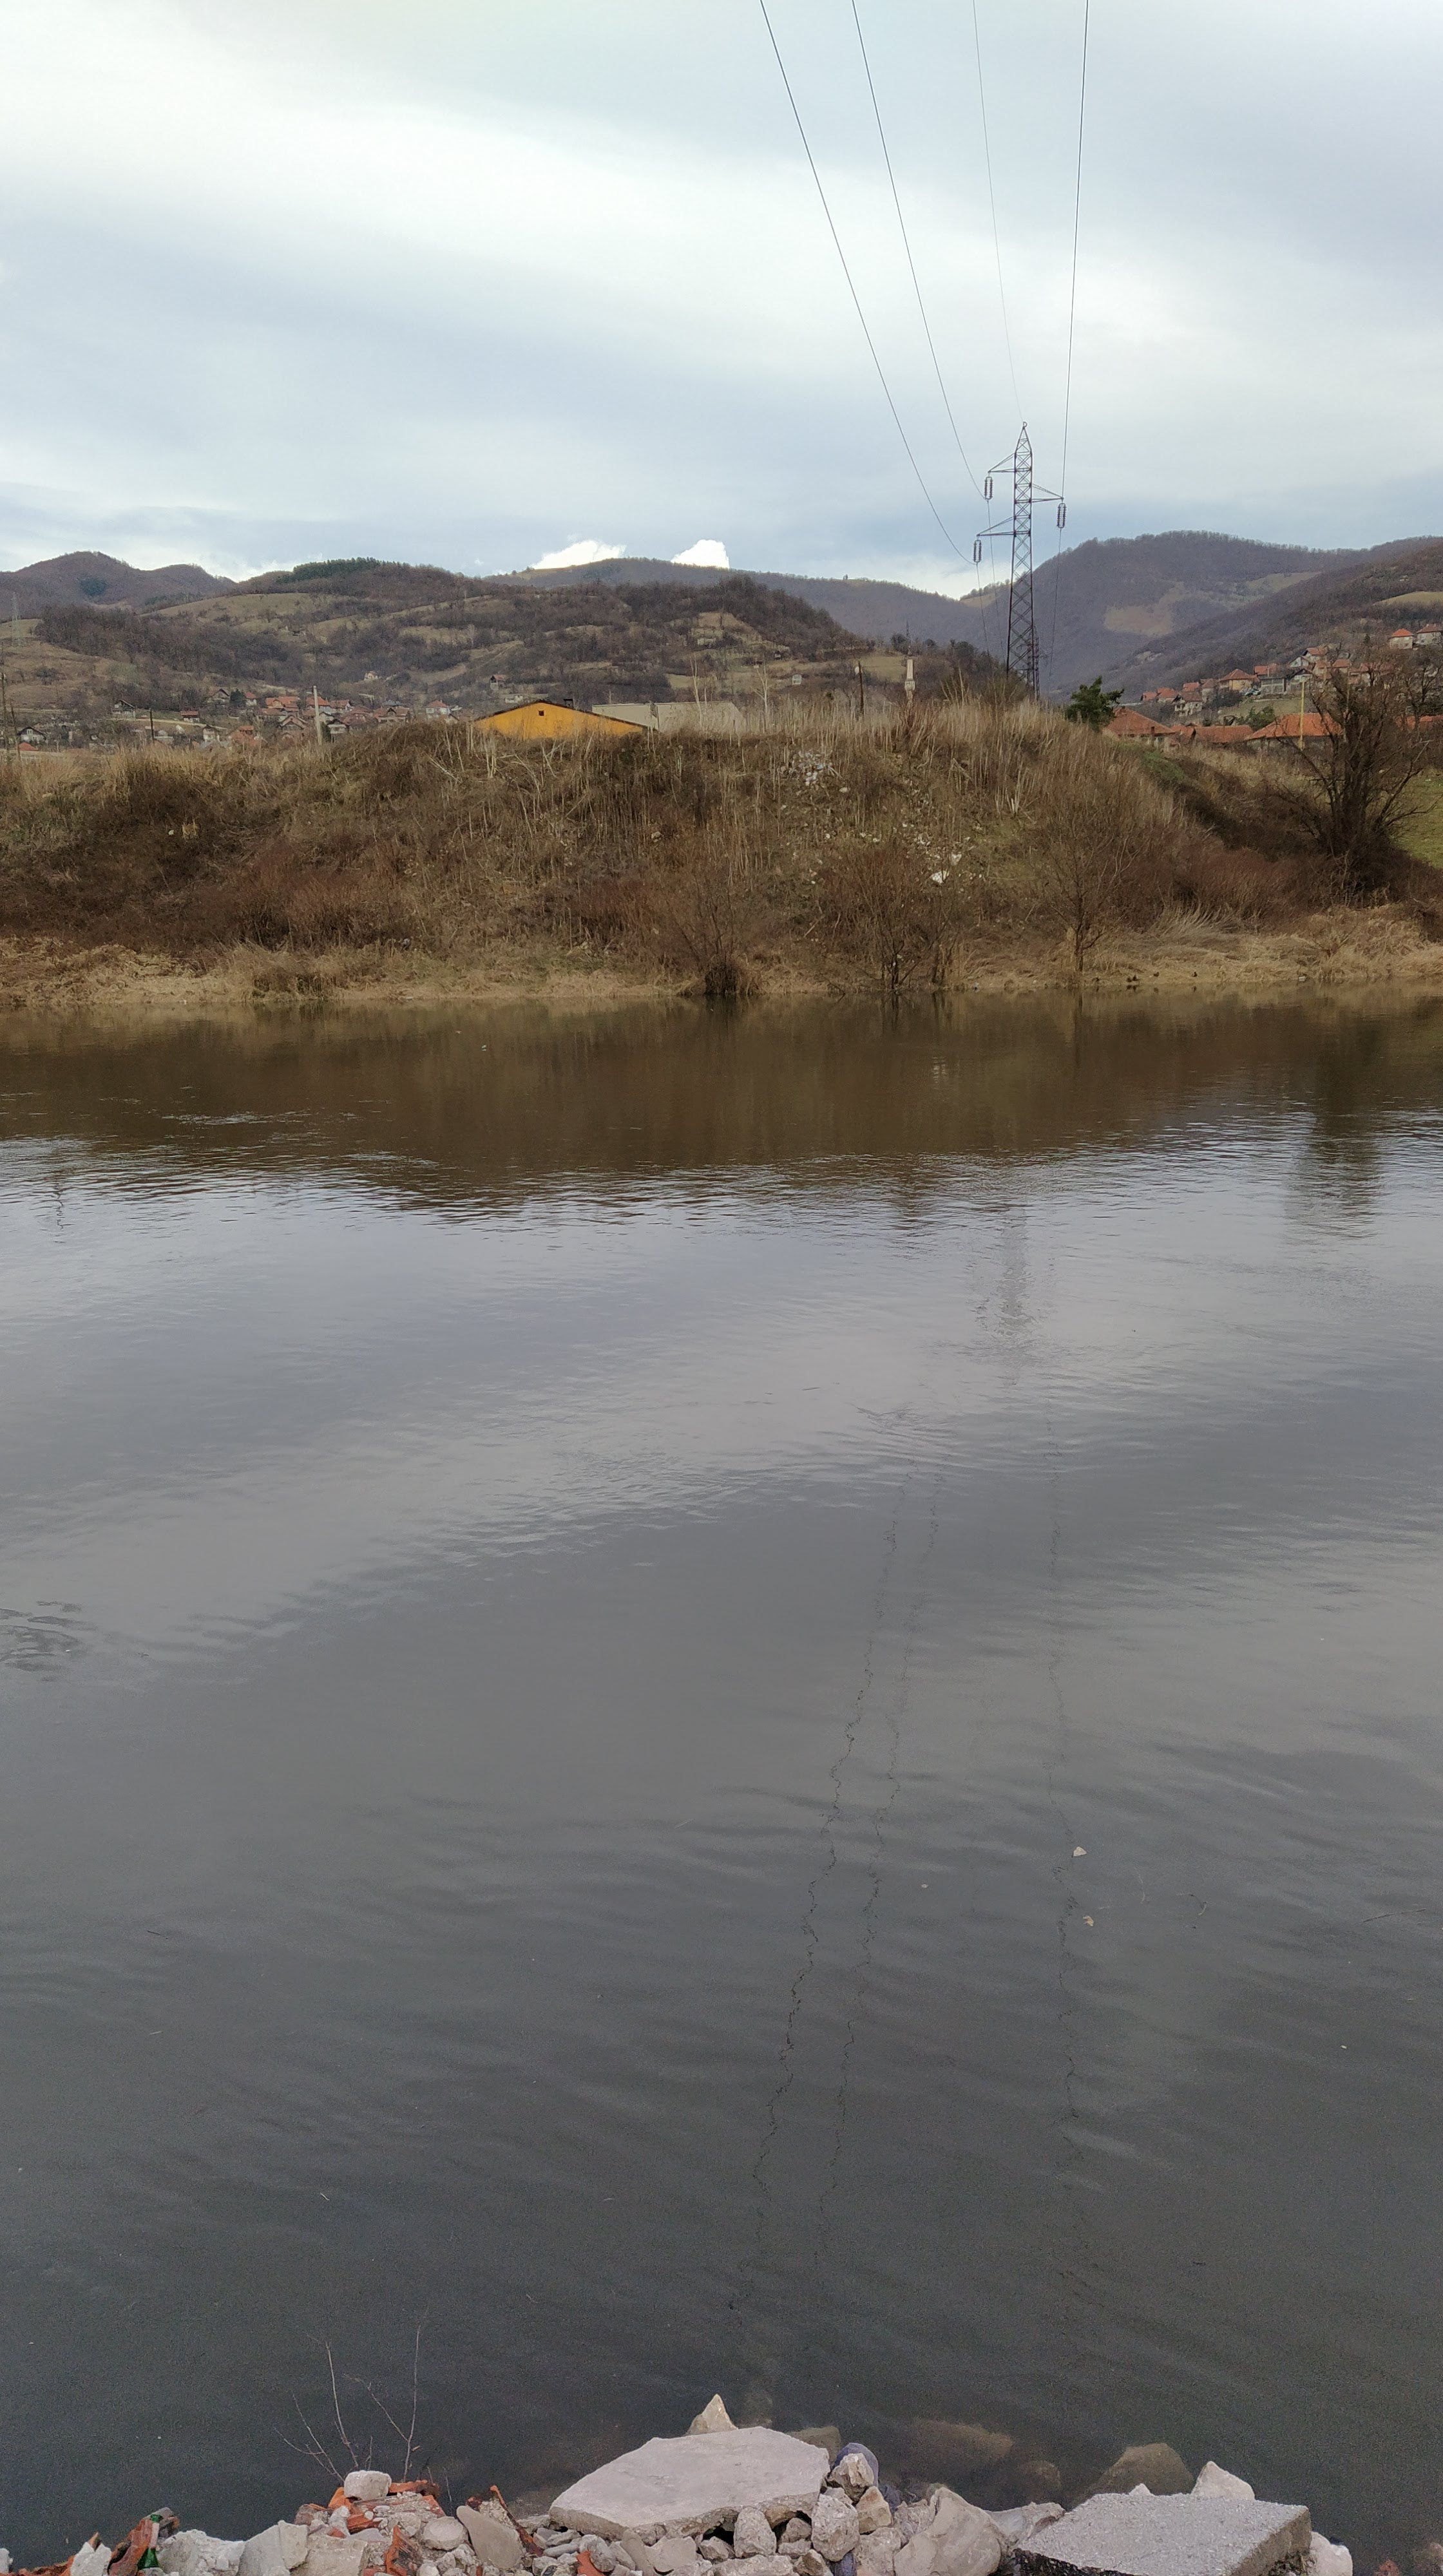Plastic Bottle: (1300, 975, 1307, 978), (482, 1046, 487, 1049)
